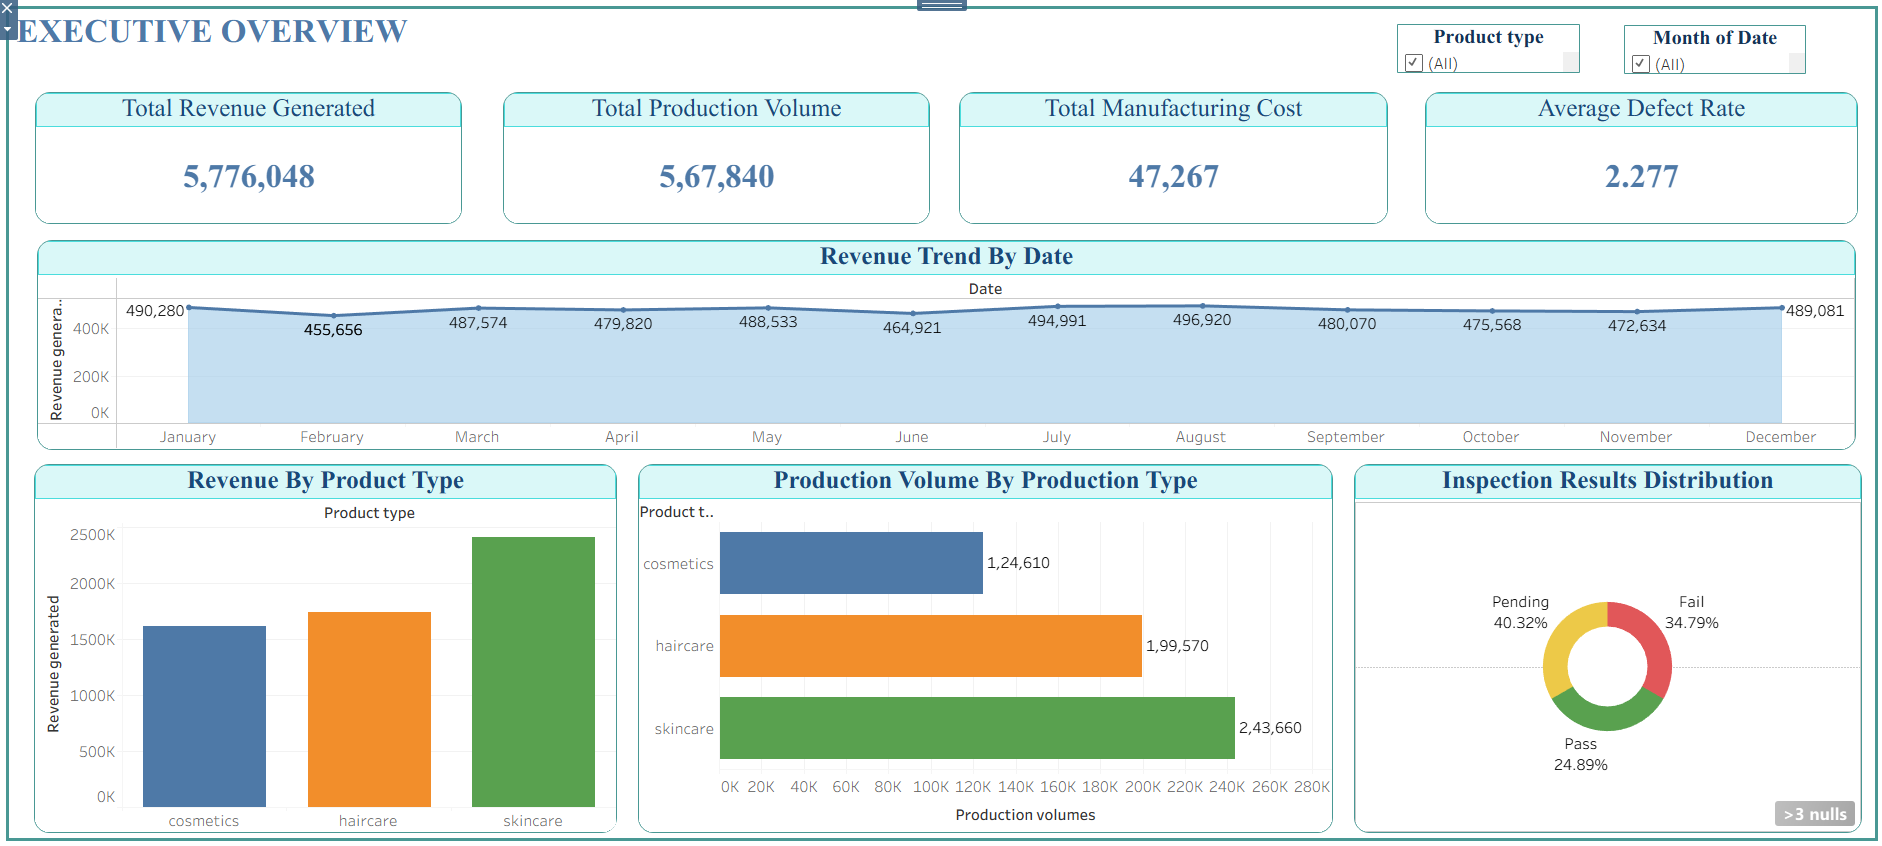

The page's visual inventory and layout, read from the dashboard file:
{"tool":"tableau","page":{"name":"Executive Overview","canvas":[1000,1000],"units":"permille","ordinal":0},"visuals":[{"type":"title","box":[5.8,12.9,988.3,52.9]},{"type":"filter","title":"Revenue By Product Type","param":"[federated.02h5oi51cr7syl1cryxu90dtj5b1].[none:Product type:nk]","box":[741.2,30.6,96.7,57.6]},{"type":"filter","title":"Revenue Trend By Date","param":"[federated.02h5oi51cr7syl1cryxu90dtj5b1].[mn:Date:ok]","box":[861.2,31.7,96.4,57.6]},{"type":"blank","box":[5.8,65.8,988.3,921.3]},{"type":"worksheet","title":"Total Revenue Generated","mark":"Automatic","box":[19.6,110.5,226.2,155.1]},{"type":"worksheet","title":"Total Production Volume","mark":"Automatic","box":[267.5,110.5,226.2,155.1]},{"type":"worksheet","title":"Total Manufacturing Cost","mark":"Automatic","box":[509,110.5,227.2,155.1]},{"type":"worksheet","title":"Average Defect Rate","mark":"Automatic","box":[755.8,110.5,229.3,155.1]},{"type":"worksheet","title":"Revenue Trend By Date","mark":"Area","rows":["Revenue generated","Revenue generated"],"cols":["Date"],"box":[20.7,284.4,963.5,246.8]},{"type":"worksheet","title":"Revenue By Product Type","mark":"Automatic","rows":["Revenue generated"],"cols":["Product type"],"box":[19.3,547.6,309,433.6]},{"type":"worksheet","title":"Production Volume By Production Type","mark":"Automatic","rows":["Product type"],"cols":["Production volumes"],"box":[339.2,547.6,368.1,433.6]},{"type":"worksheet","title":"Inspection Results Distribution","mark":"Pie","rows":["Costs","Costs"],"box":[718.2,547.6,269.2,433.6]}]}

Visuals, with their boxes on the dashboard's canvas, which has no fixed pixel size, in thousandths of its width and height (x1, y1, x2, y2). These are canvas units, not pixel positions in the 1882x846 screenshot, which may show the page scaled, cropped or inside an application window:
title: {"left": 6, "top": 13, "right": 994, "bottom": 66}
"Revenue By Product Type" filter: {"left": 741, "top": 31, "right": 838, "bottom": 88}
"Revenue Trend By Date" filter: {"left": 861, "top": 32, "right": 958, "bottom": 89}
blank: {"left": 6, "top": 66, "right": 994, "bottom": 987}
"Total Revenue Generated" worksheet: {"left": 20, "top": 110, "right": 246, "bottom": 266}
"Total Production Volume" worksheet: {"left": 268, "top": 110, "right": 494, "bottom": 266}
"Total Manufacturing Cost" worksheet: {"left": 509, "top": 110, "right": 736, "bottom": 266}
"Average Defect Rate" worksheet: {"left": 756, "top": 110, "right": 985, "bottom": 266}
"Revenue Trend By Date" worksheet (Area marks): {"left": 21, "top": 284, "right": 984, "bottom": 531}
"Revenue By Product Type" worksheet: {"left": 19, "top": 548, "right": 328, "bottom": 981}
"Production Volume By Production Type" worksheet: {"left": 339, "top": 548, "right": 707, "bottom": 981}
"Inspection Results Distribution" worksheet (Pie marks): {"left": 718, "top": 548, "right": 987, "bottom": 981}
